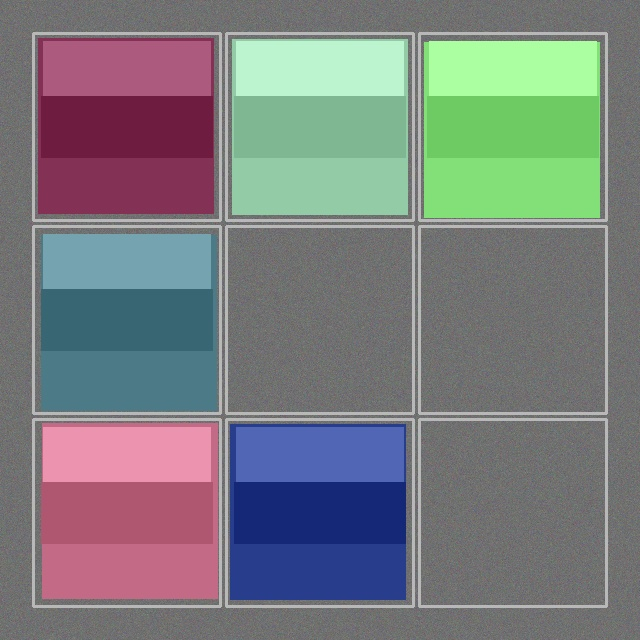space-empty: (228, 228, 411, 411), (421, 228, 604, 411), (421, 421, 604, 604)
space-occupied: (35, 35, 218, 218), (228, 35, 411, 218), (421, 35, 604, 218), (35, 228, 218, 411), (35, 421, 218, 604), (228, 421, 411, 604)
